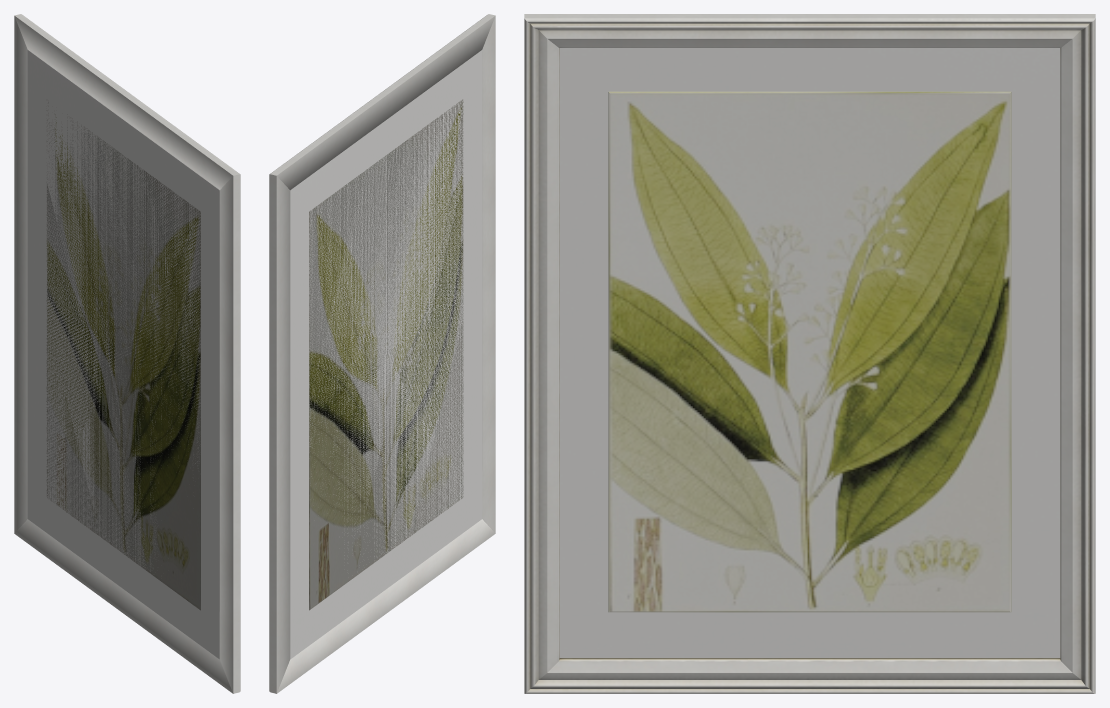
Rendered from canvas_c.glb.
3 renders of one model, left to right at view 1: azimuth 30°, elevation 25°; view 2: azimuth 150°, elevation 25°; view 3: azimuth 270°, elevation 25°, orthographic. The views are drawn at different scales.
Visible parts, largest first — view 1: Object002_Object002_mtl_0; view 2: Object002_Object002_mtl_0; view 3: Object002_Object002_mtl_0.
Part boxes in pixels (box(x1,y1,x2,y2)): Object002_Object002_mtl_0: box(14, 14, 240, 693); Object002_Object002_mtl_0: box(269, 14, 495, 693); Object002_Object002_mtl_0: box(524, 14, 1095, 693).
Size of the model in its own units: 0.0133 by 0.7934 by 0.6078.
1 material, 1 textured.
